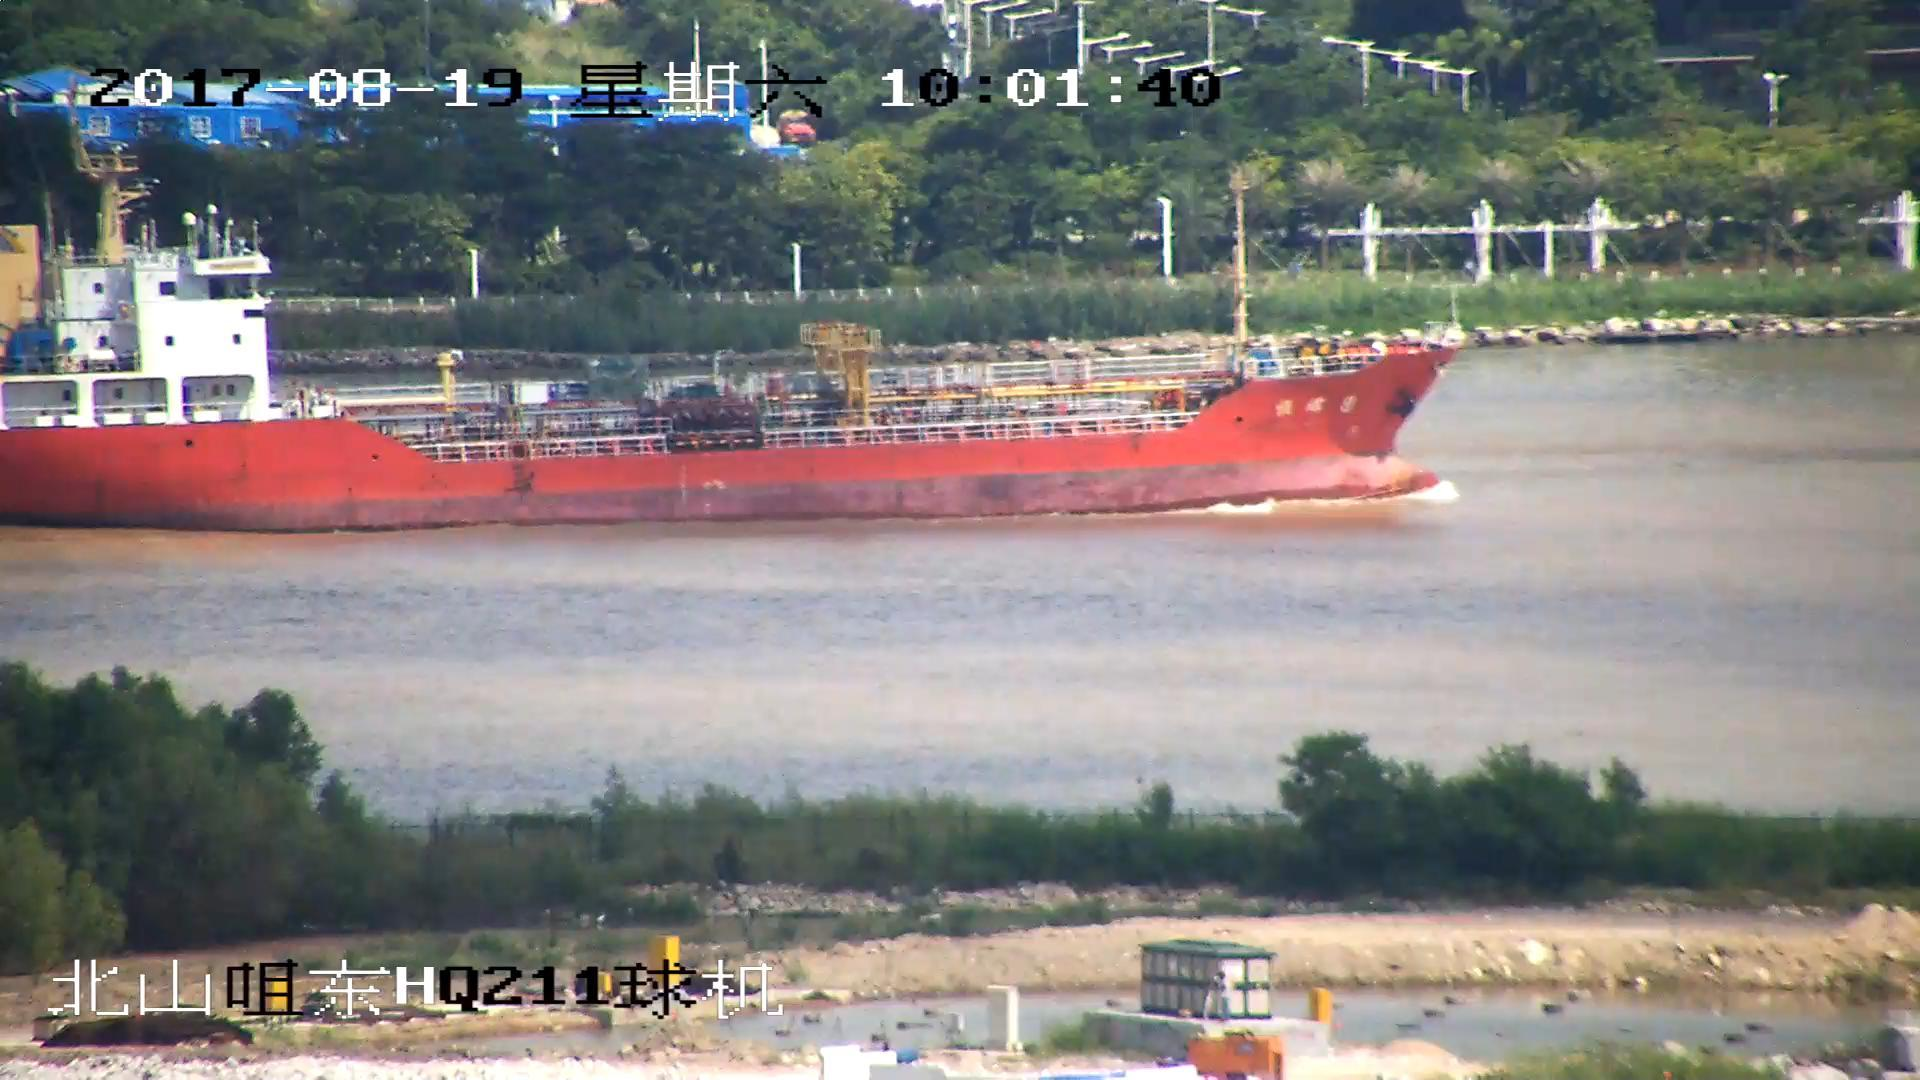Ship: (3, 214, 1466, 518)
